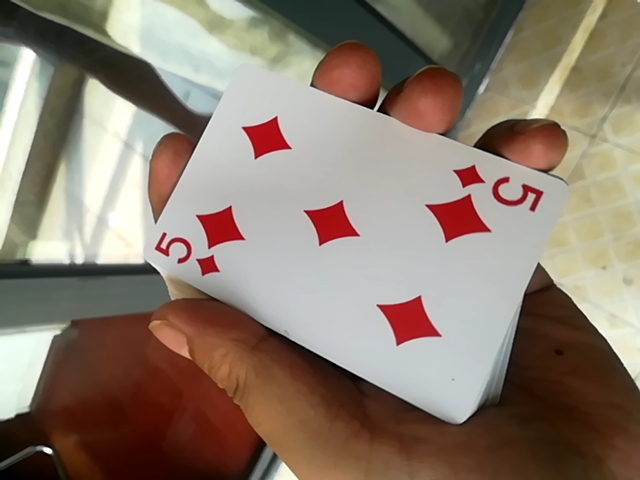fk 5: (117, 64, 561, 428)
